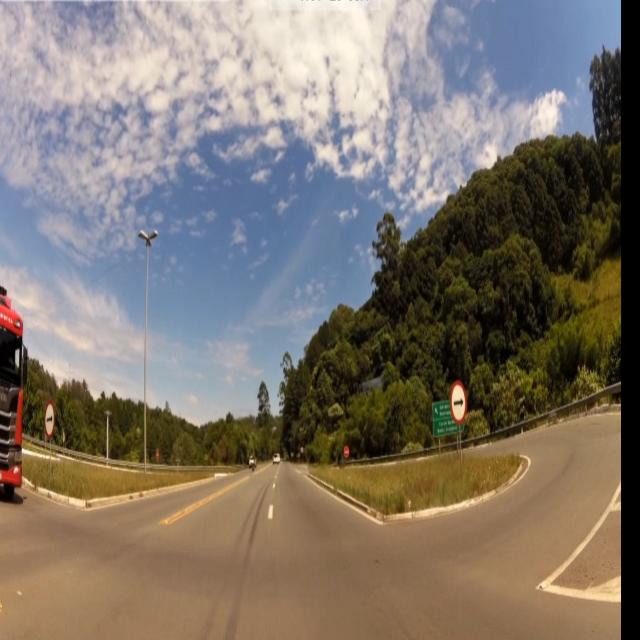R-24a: (451, 382, 466, 428)
